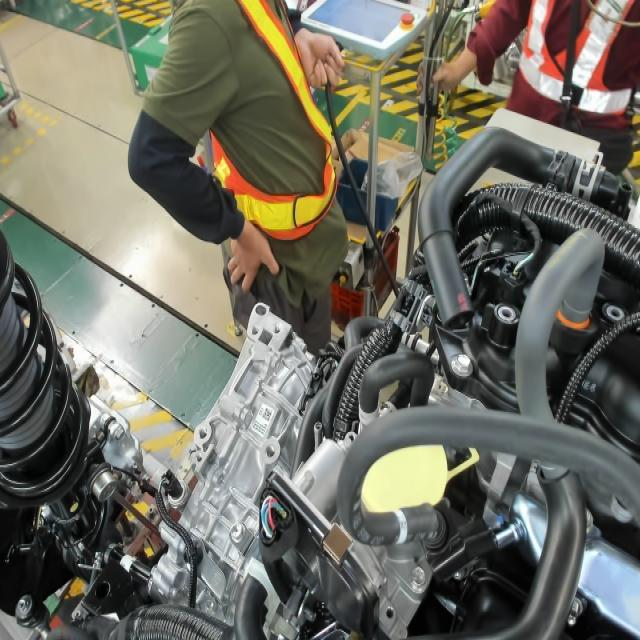Tube Sub Assy Fuel-W: (394, 508, 417, 562)
